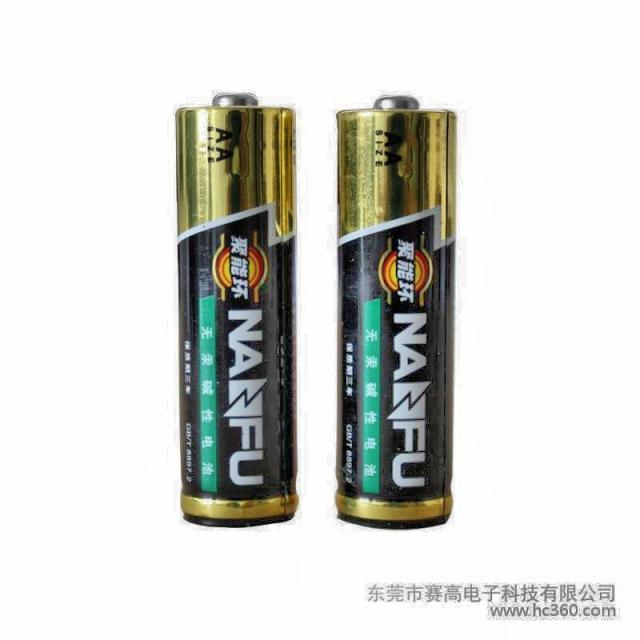Non-Valuable Waste - Batteries: (176, 94, 298, 526), (336, 95, 456, 528)
